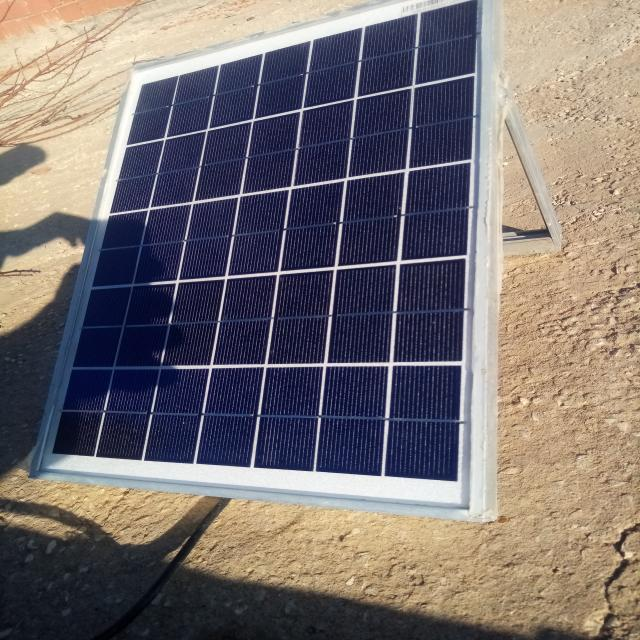no faulty: (33, 0, 488, 515)
